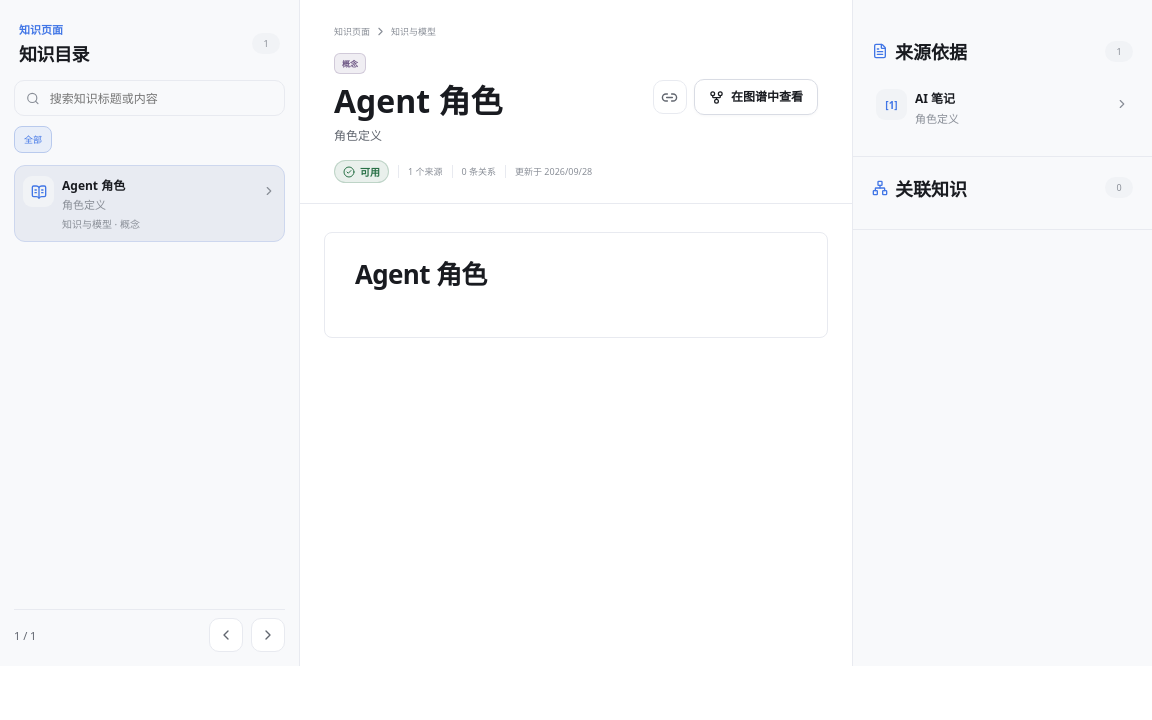
Scenario: KnowledgePage source evidence › renders the complete Markdown source for ai-notes.md
The width and height of the screenshot is (1152, 720).
Click the button "[1] AI 笔记 角色定义": {"x": 892, "y": 104} [867,78,1138,138]
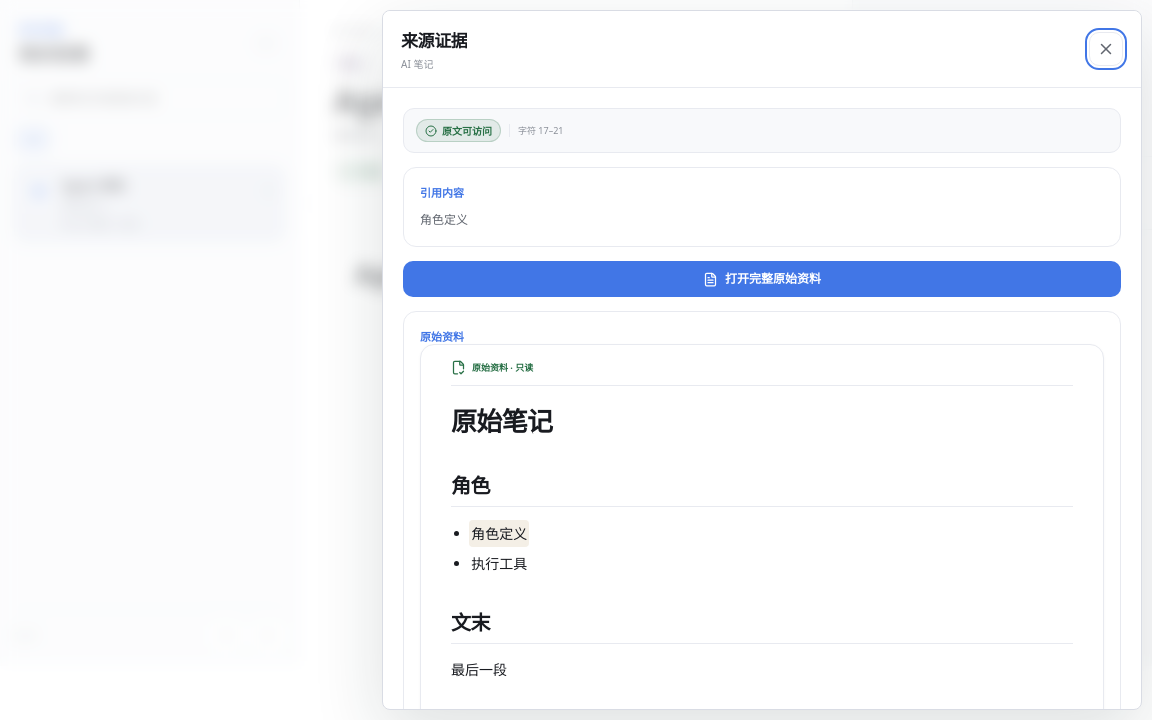
Expected: the heading "原始笔记" is shown, [451,403,552,439]
Expected: the heading "文末" is shown, [451,610,1073,644]
Expected: the list item "执行工具" is shown, [471,554,527,573]
